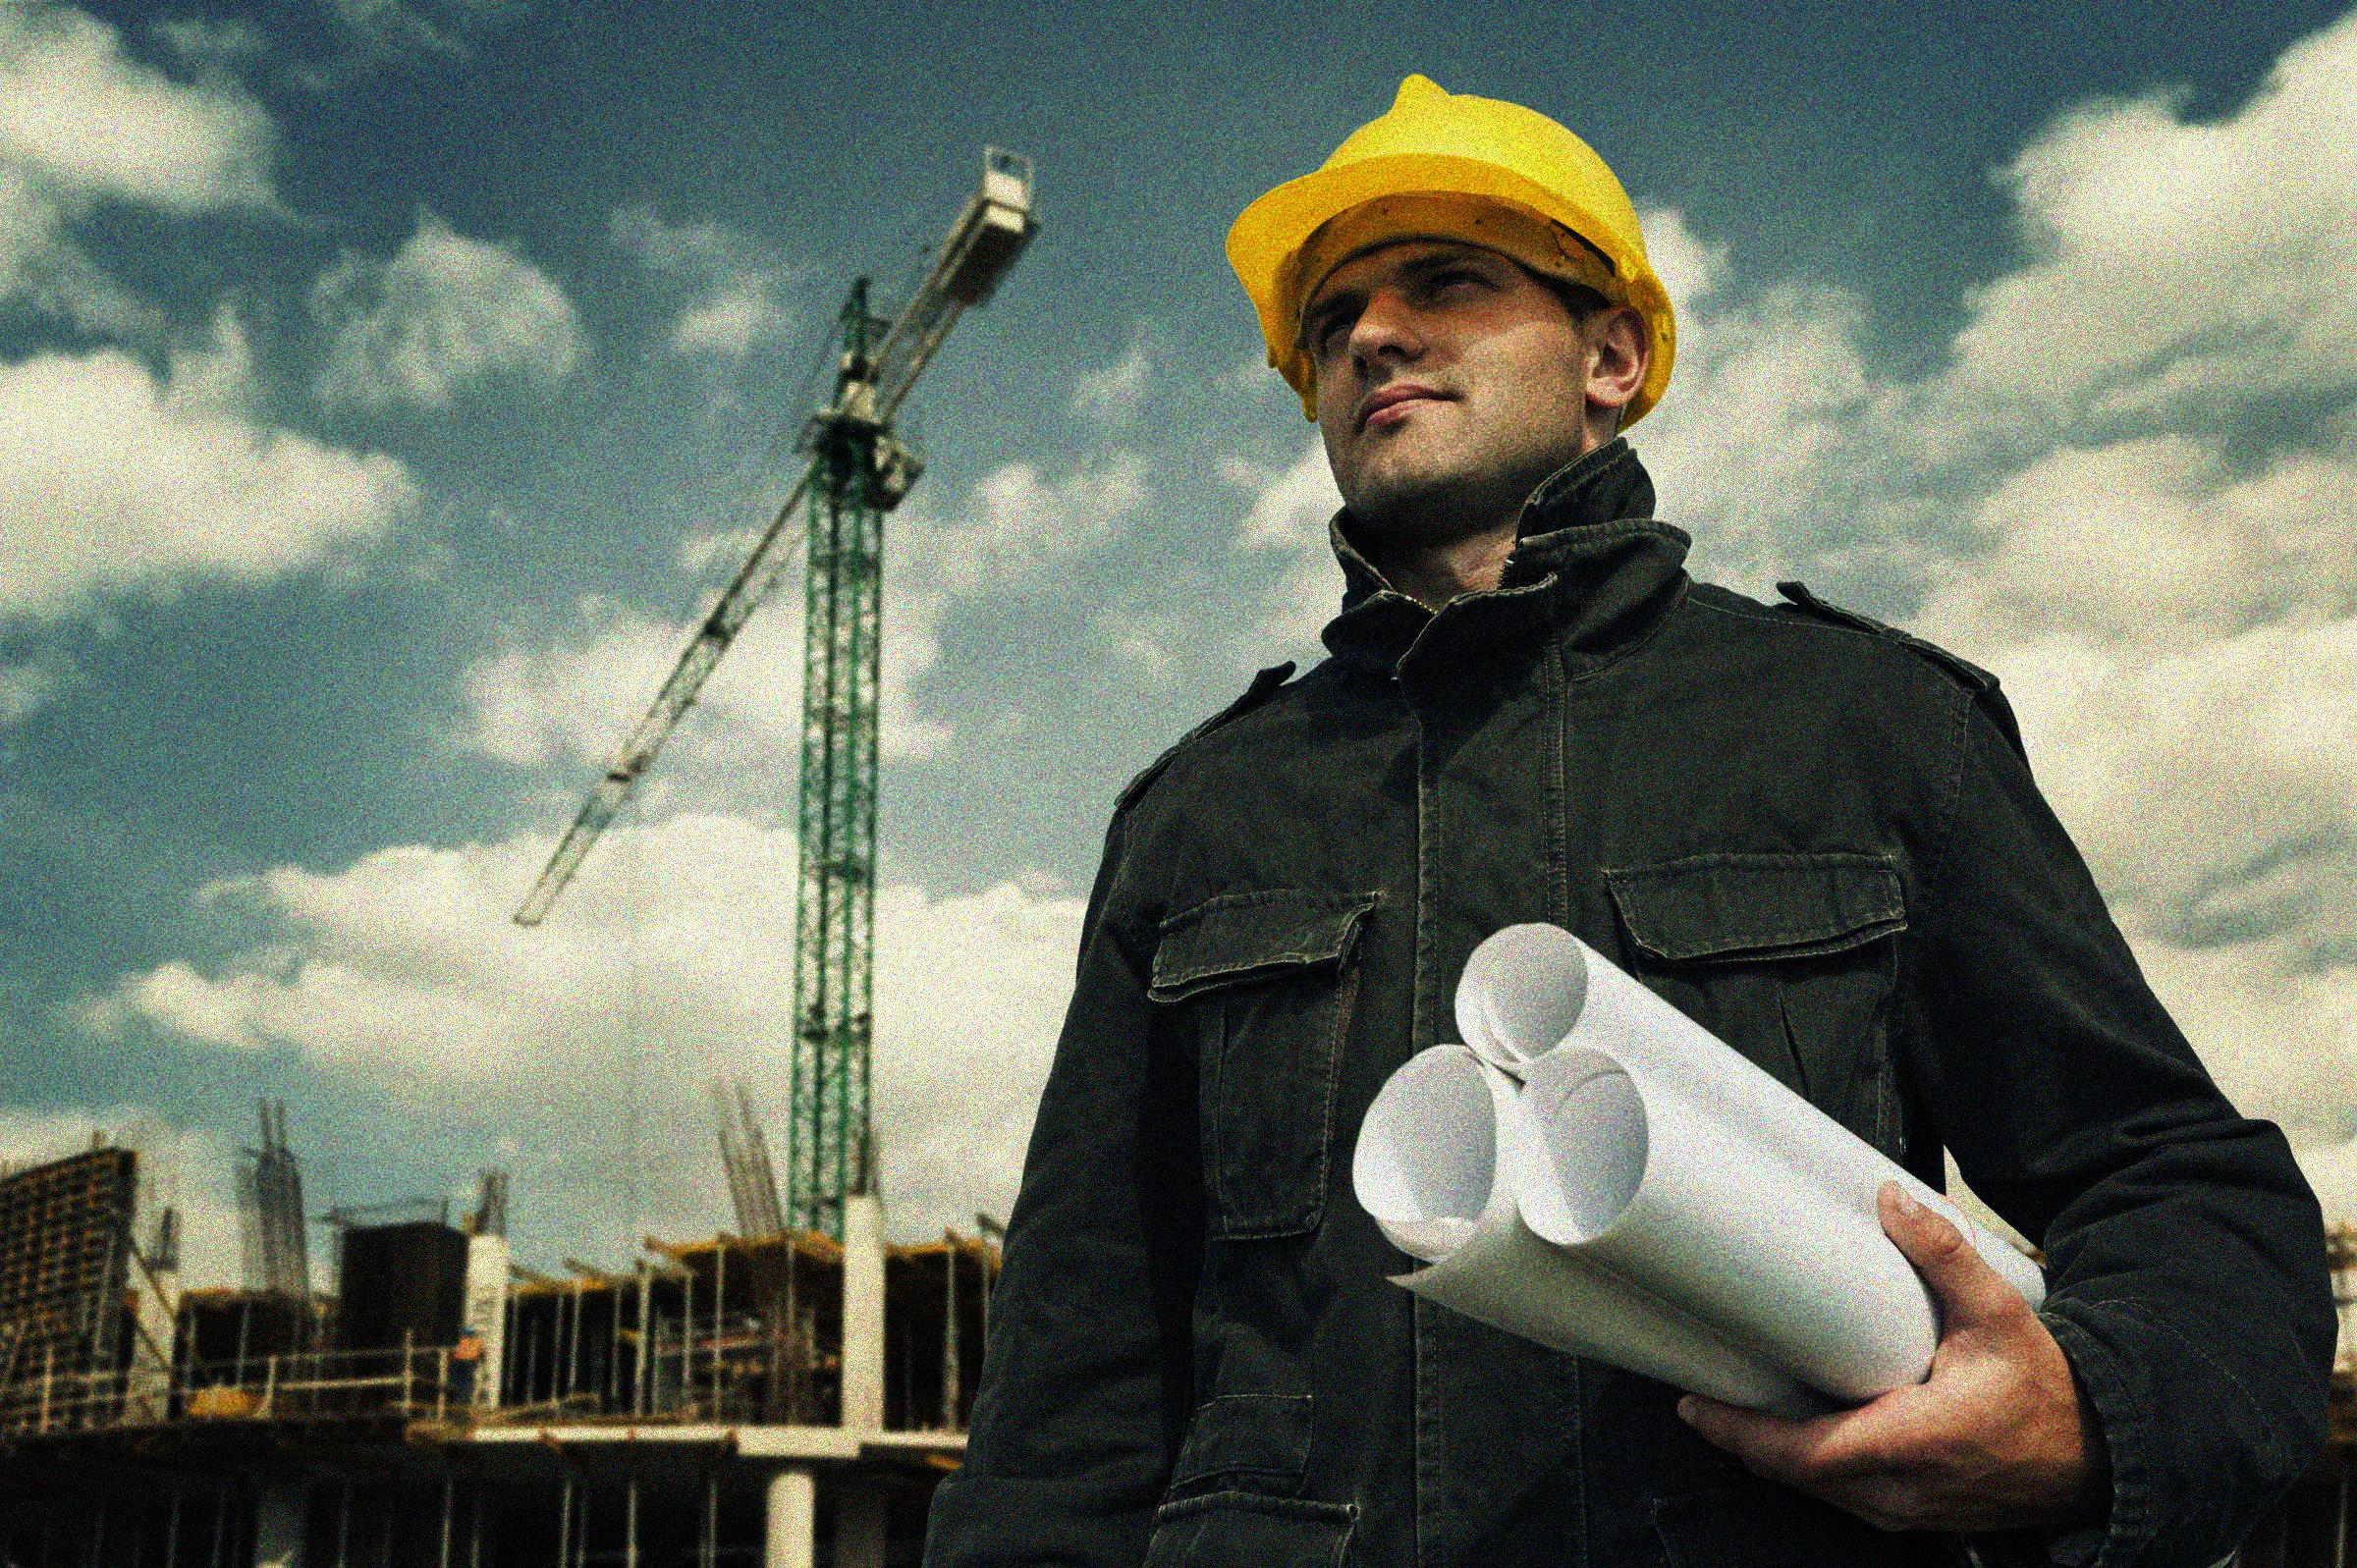helmet: (1214, 58, 1678, 518)
